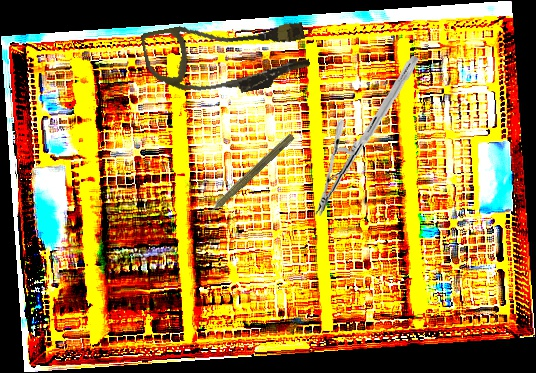Cannula: (140, 3, 313, 110)
Handpiece: (196, 129, 297, 225)
Needle Holder: (314, 51, 419, 221)
